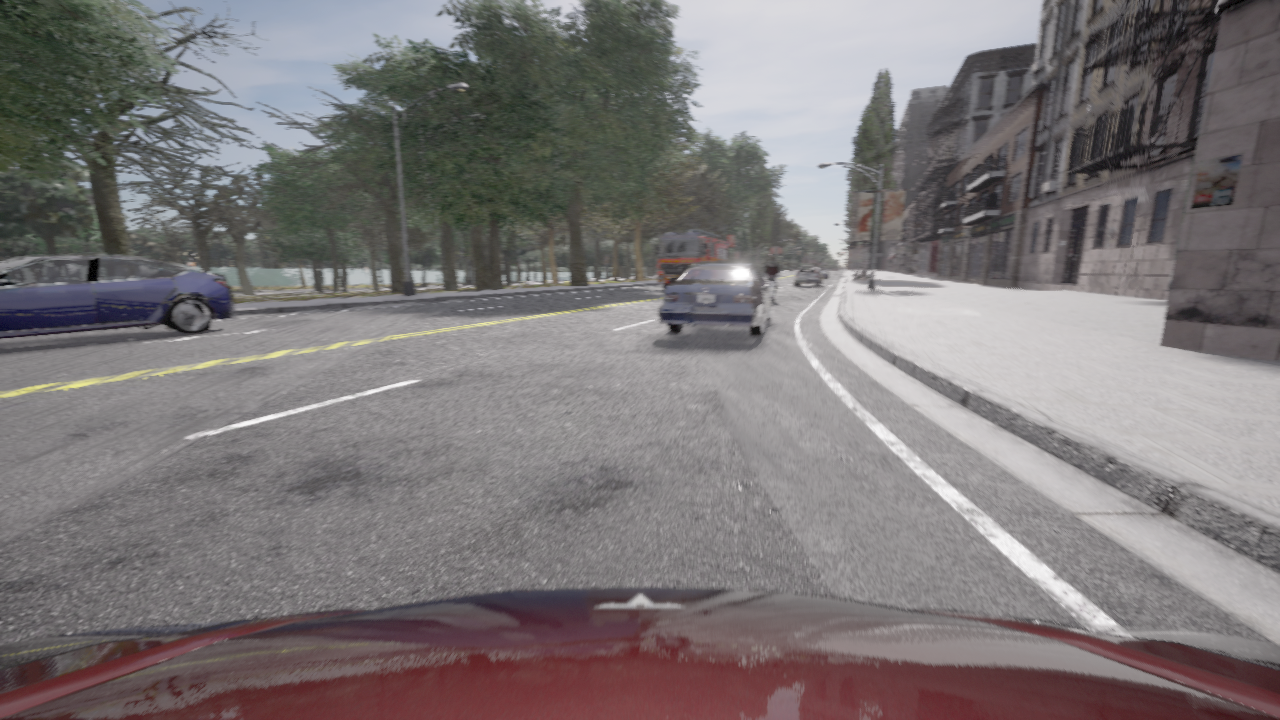cyclist: (0, 588, 1279, 719), (0, 254, 234, 339), (658, 262, 775, 336), (655, 229, 727, 288), (794, 265, 820, 286), (816, 267, 829, 279), (817, 268, 823, 282), (769, 286, 773, 296)
